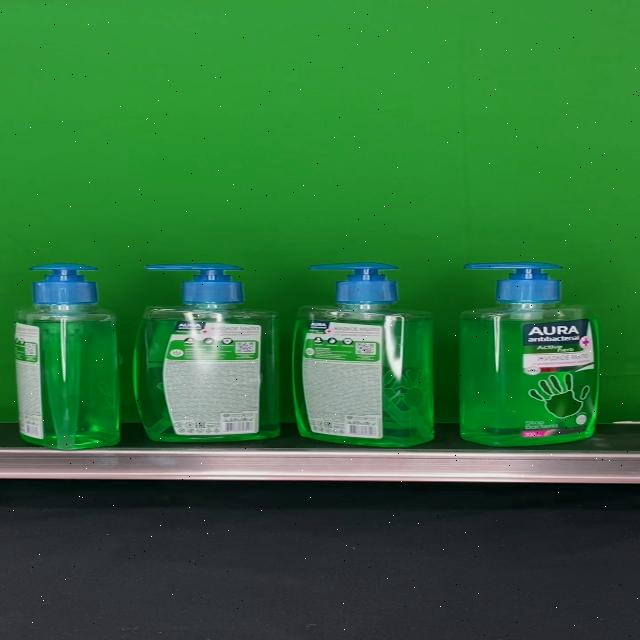Bottle: (290, 262, 434, 448), (133, 264, 280, 442), (458, 262, 599, 447), (12, 262, 120, 450)
Cap: (462, 262, 562, 304), (144, 264, 243, 305), (310, 262, 402, 304), (29, 262, 98, 304)
